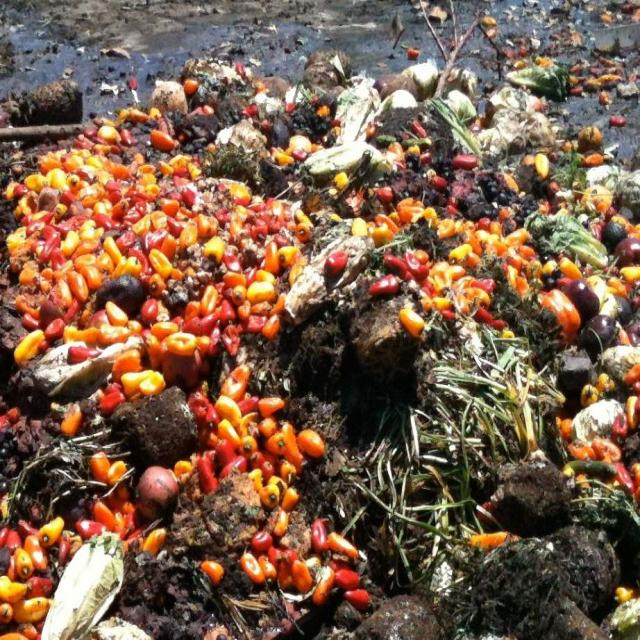food_waste: (28, 165, 532, 577), (176, 76, 599, 466)
